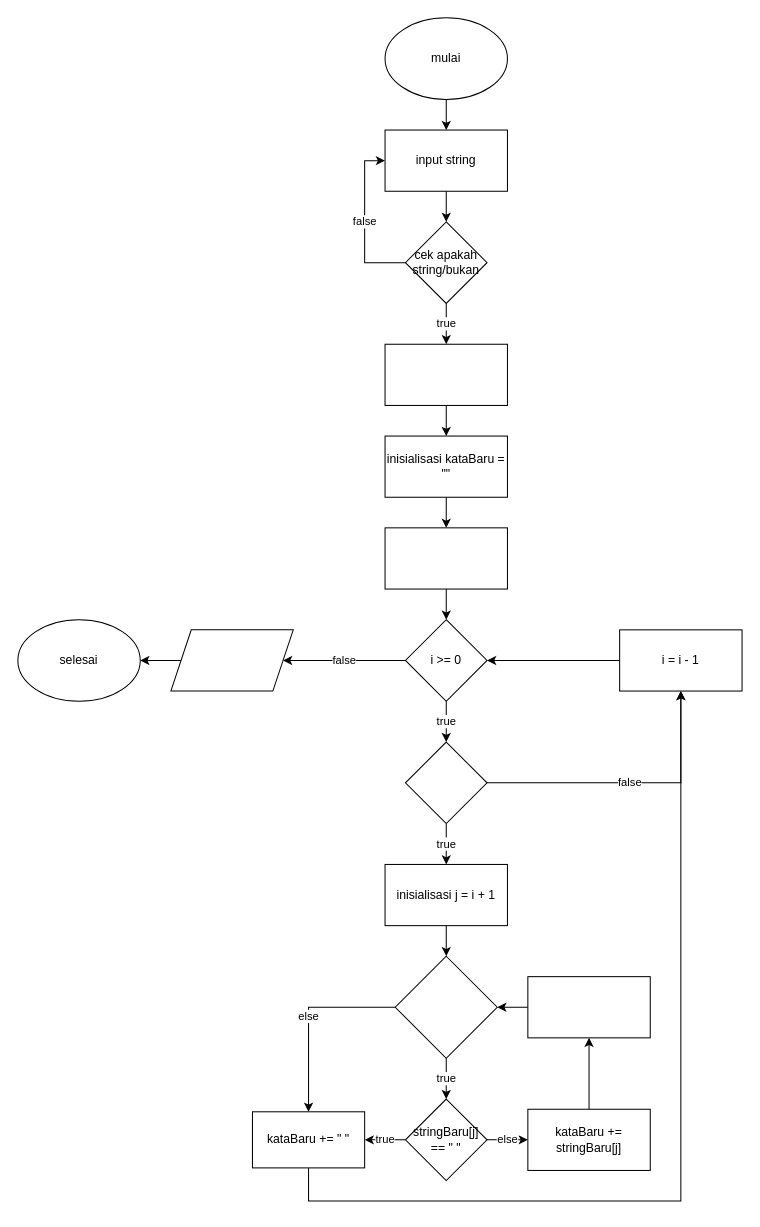
This 760x1227 diagram has some shape labels left out. Here are the shapes that lost their labels. From the top down, the box of each, then its label:
(384, 343, 507, 405): stringBaru = " " + inputString
(384, 527, 507, 589): inisialisasi i = stringBaru.length - 1
(170, 629, 293, 691): cetak kataBaru
(404, 741, 487, 824): stringBaru[i] == " "
(394, 955, 497, 1058): j <= stringBaru.length -1
(527, 976, 650, 1038): j = j + 1
